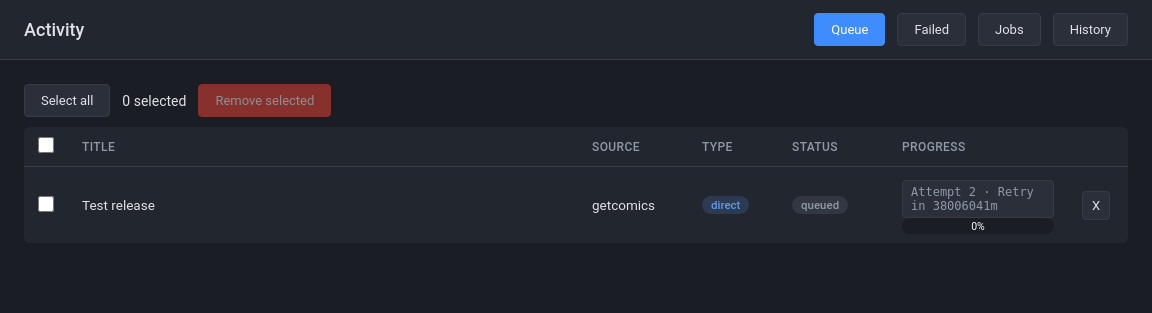
it: queue removal errors are visible and retain selection
Click the checkbox named "Select Test release" at coordinates (46, 204), box [38,196,54,212]
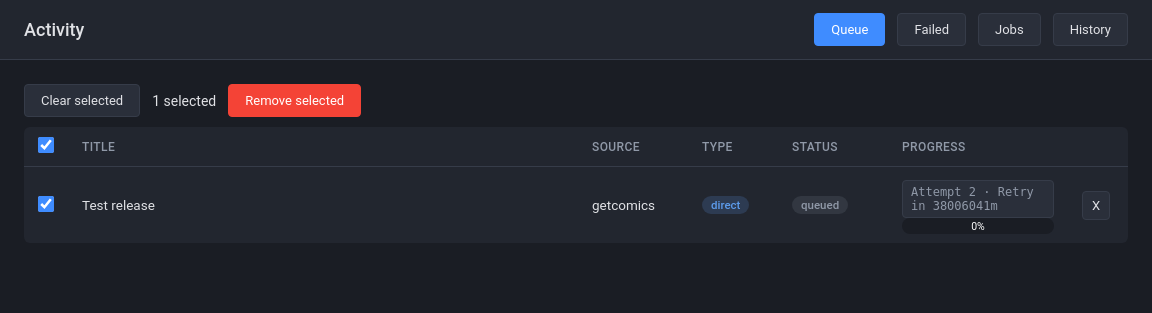
Click the button "Remove selected" at coordinates (295, 100), box [228,84,361,117]
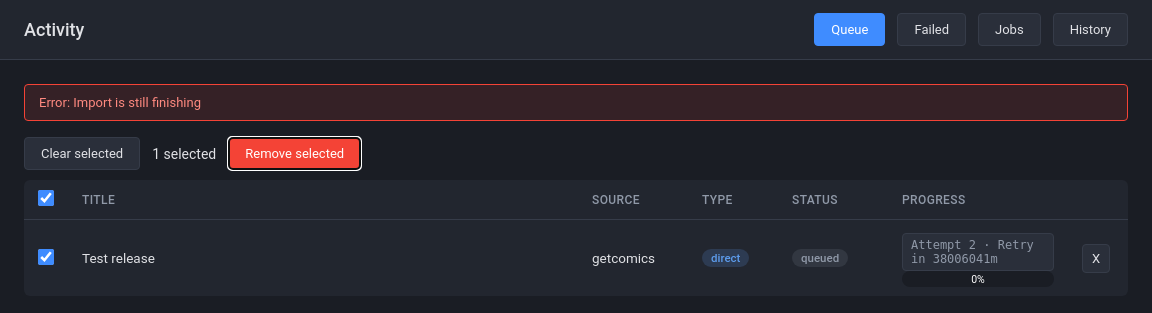
Expected: the text "Attempt 2 · Retry in 38006041m" is shown, [902,233,1054,271]
Now the checkbox named "Select Test release" is checked, box [38,248,54,264]
Now the message shows "Import is still finishing", box [39,95,201,110]
